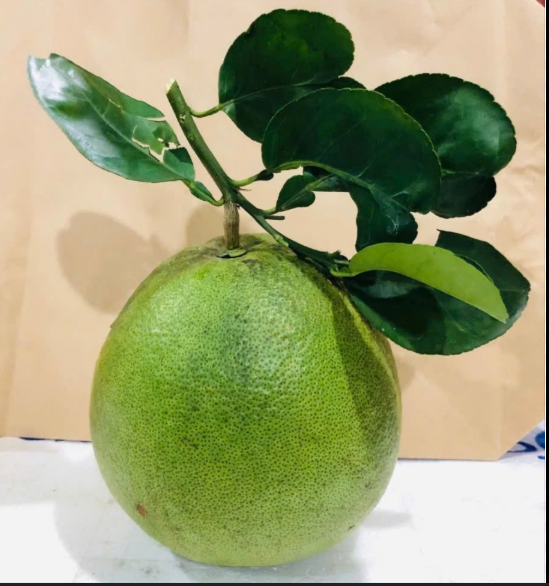buoi: (22, 8, 533, 573)
